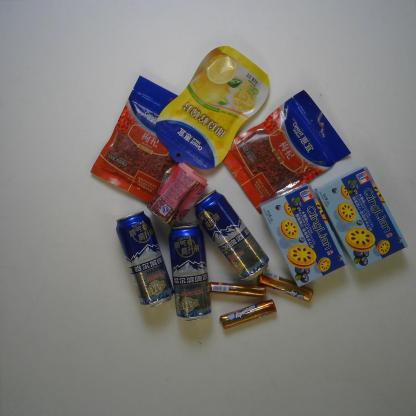Alcohol: (194, 189, 270, 283), (114, 210, 174, 308), (167, 222, 214, 321)
Candy: (256, 271, 314, 304), (218, 300, 277, 330), (208, 280, 268, 299)
Canned Food: (147, 163, 209, 228)
Dessert: (316, 166, 408, 270), (261, 184, 348, 289)
Dried Fruit: (219, 89, 353, 216), (90, 74, 198, 209), (155, 46, 270, 171)
